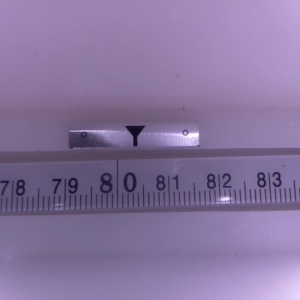0: (123, 172, 137, 192)
2: (221, 173, 231, 188)
3: (271, 172, 282, 188)
7: (51, 179, 61, 194), (0, 180, 9, 195)
8: (99, 173, 112, 193), (255, 172, 266, 187), (15, 179, 25, 195), (206, 173, 216, 189), (163, 174, 171, 190)
9: (67, 178, 78, 194)
finger: (122, 126, 146, 147)
